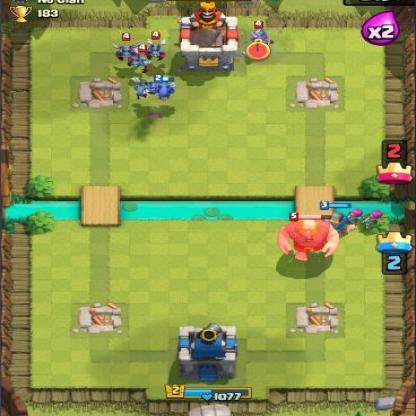ally_archer: (344, 204, 366, 232), (362, 208, 384, 233)
ally_knight: (315, 200, 356, 238)
ally_minion: (130, 76, 157, 102), (152, 74, 178, 100)
enemy_giant: (274, 211, 340, 265)
enemy_minion: (141, 29, 171, 63), (110, 32, 144, 62), (128, 42, 155, 74)
enemy_musketeer: (240, 19, 277, 62)
